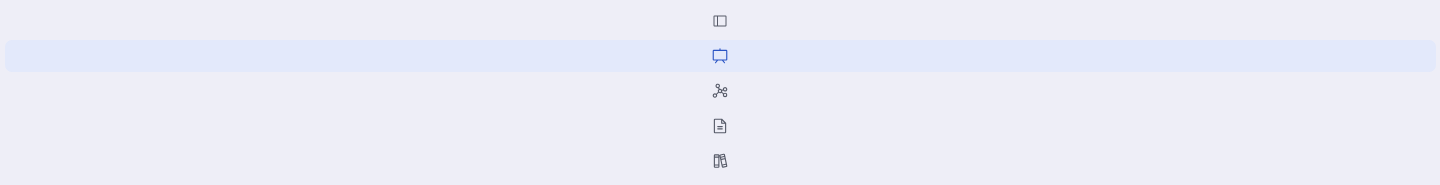
Scenario: SidePanel collapse — the rail › the expand button at the top of the rail also reopens the panel
Click the button named "Expand side panel" at (720, 20), box [4,4,1436,36]
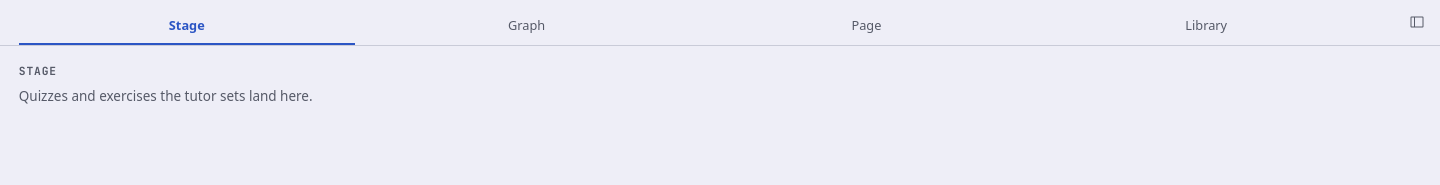
Check: the button named "Collapse side panel" is shown, box [1400,6,1432,38]
